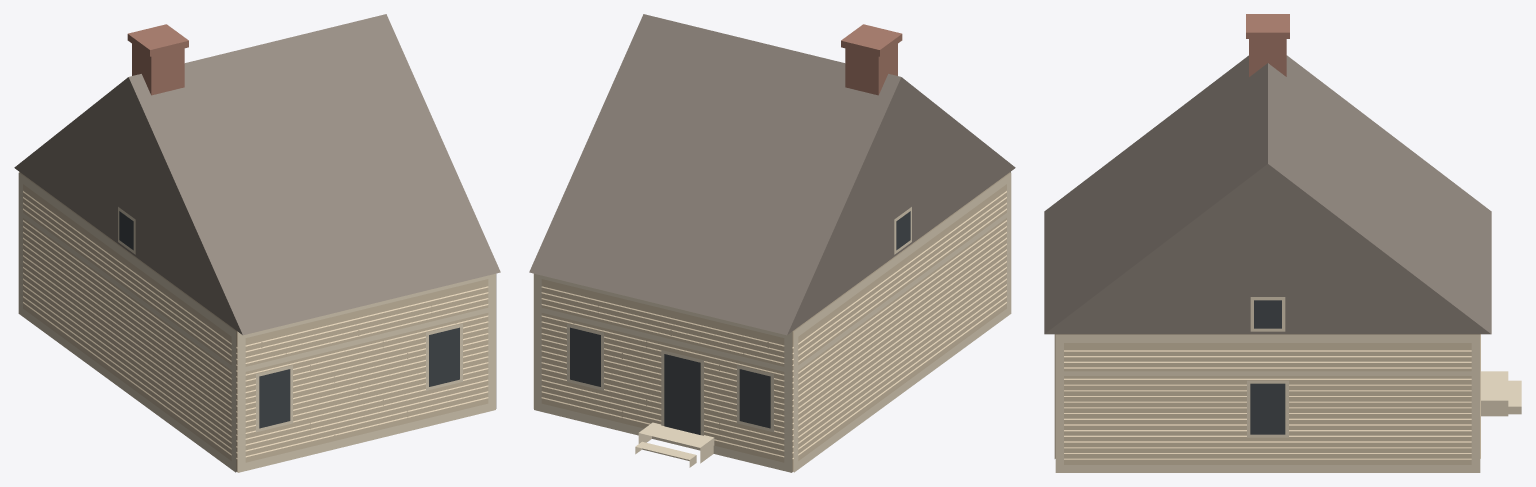
Rendered from recon_1835_blk_south_water_wells_d6_01__inferred_1835.glb.
3 renders of one model, left to right at view 1: azimuth 30°, elevation 25°; view 2: azimuth 150°, elevation 25°; view 3: azimuth 270°, elevation 25°, orthographic. The views are drawn at different scales.
Visible parts, largest first — view 1: recon_1835_blk_south_water_wells_d6_01__inferred_1835; view 2: recon_1835_blk_south_water_wells_d6_01__inferred_1835; view 3: recon_1835_blk_south_water_wells_d6_01__inferred_1835.
Part boxes in pixels (x1,y1,x2,y2): recon_1835_blk_south_water_wells_d6_01__inferred_1835: [14, 14, 500, 472]; recon_1835_blk_south_water_wells_d6_01__inferred_1835: [529, 14, 1015, 472]; recon_1835_blk_south_water_wells_d6_01__inferred_1835: [1044, 14, 1521, 472].
Bounding box in the file's own units: 6.58 × 8.37 × 10.63.
